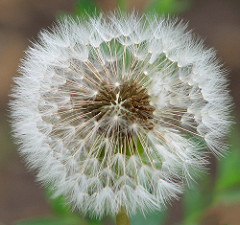dandelion: (8, 4, 238, 225)
